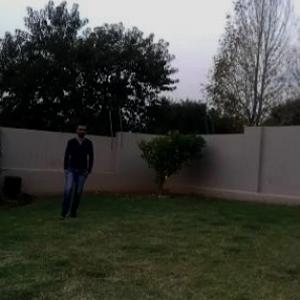follow: (61, 118, 93, 222)
